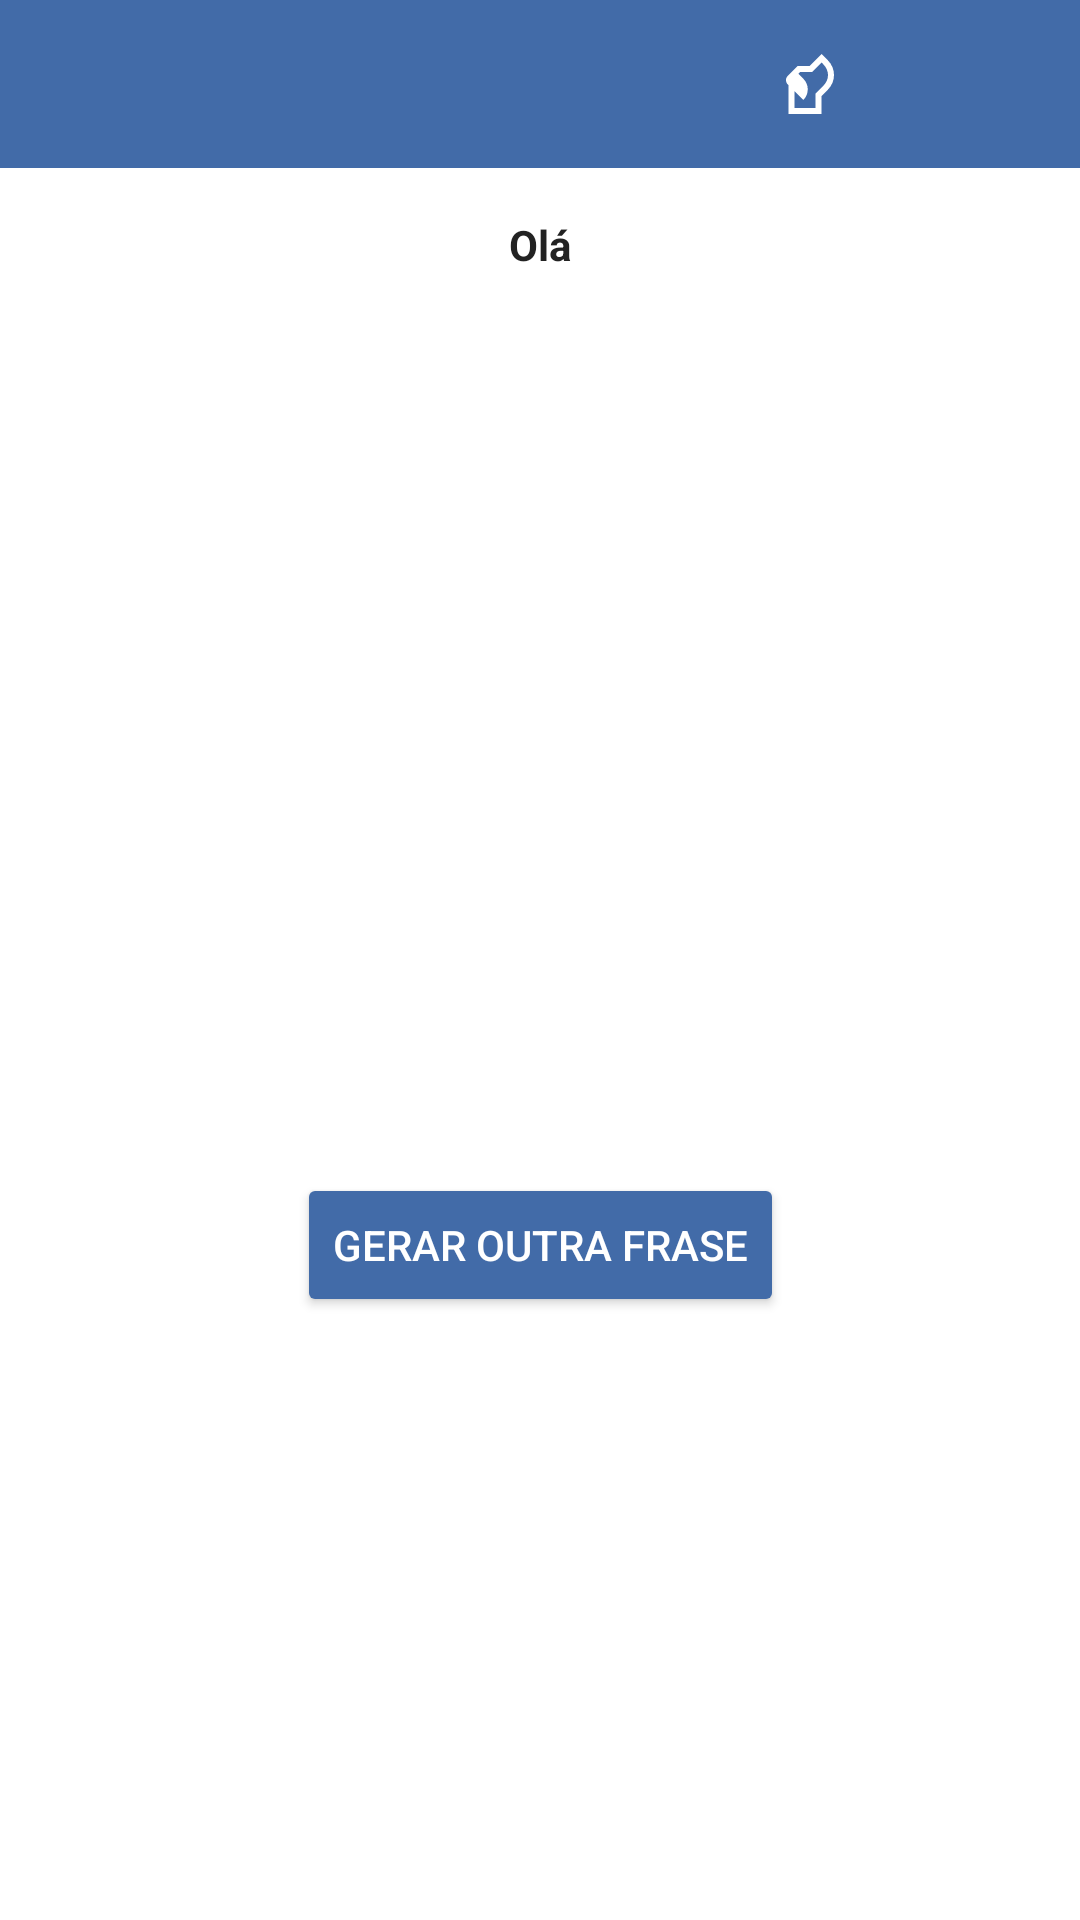

Screen size 1080 × 1920. Icon name, then its center in pixels as (x=x, y=y):
dog: (x=810, y=84)
